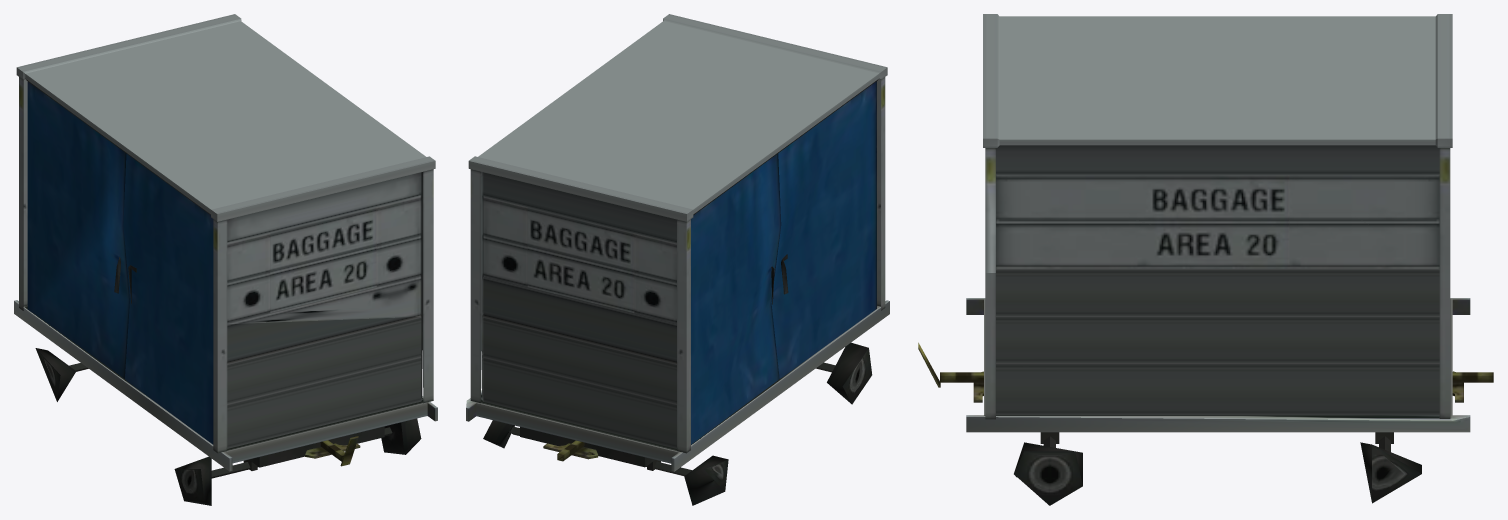
The model's file is bag-cart.lod1.glb.
The picture shows the model from 3 angles, left to right: view 1: azimuth 30°, elevation 25°; view 2: azimuth 150°, elevation 25°; view 3: azimuth 270°, elevation 25°; orthographic projection. The views are drawn at different scales.
Parts seen in each view (by area): view 1: Object_2; view 2: Object_2; view 3: Object_2.
Part boxes in pixels (<box>): Object_2: <box>14,14,437,505</box>; Object_2: <box>466,14,889,505</box>; Object_2: <box>918,14,1493,505</box>.
Bounding box in the file's own units: 1.49 × 2.03 × 2.88.
Materials: 1 (1 with a texture image).
